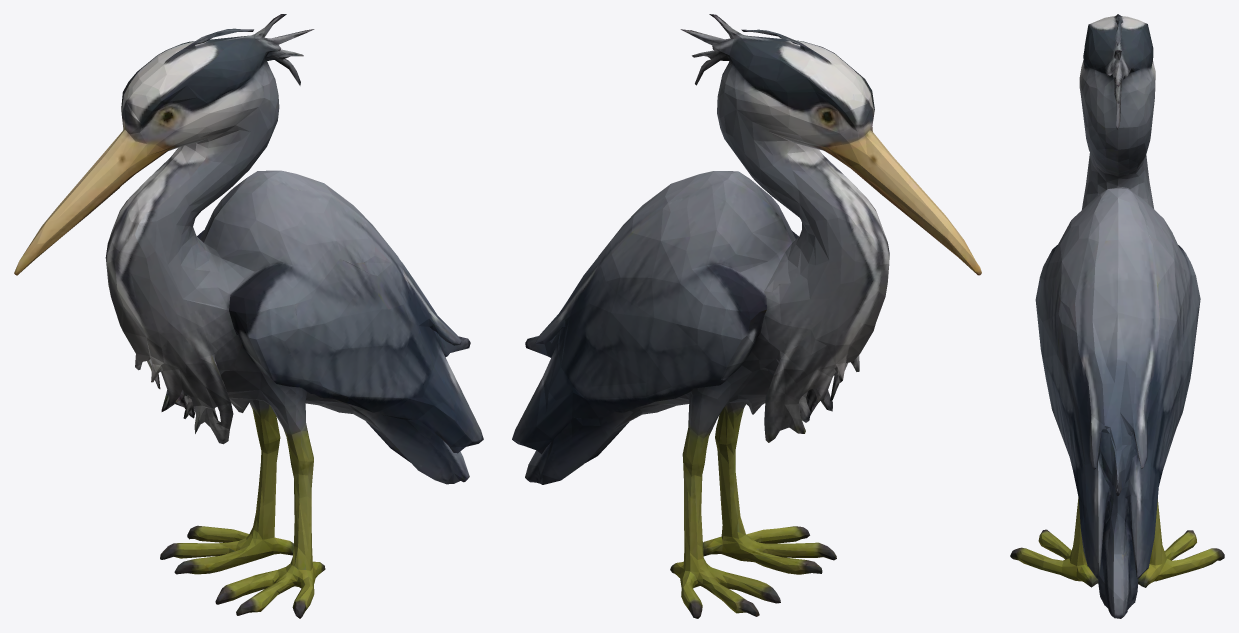
File: great_blue_heron.glb
The picture shows the model from 3 angles, left to right: view 1: azimuth 30°, elevation 25°; view 2: azimuth 150°, elevation 25°; view 3: azimuth 270°, elevation 25°; orthographic projection. The views are drawn at different scales.
Parts seen in each view (by area): view 1: geometry_0; view 2: geometry_0; view 3: geometry_0.
Part boxes in pixels (bbox=[...]): geometry_0: bbox=[14, 14, 483, 618]; geometry_0: bbox=[512, 14, 981, 618]; geometry_0: bbox=[1010, 14, 1224, 618].
Size of the model in its own units: 0.8599 by 0.9962 by 0.366.
1 material, 1 textured.
